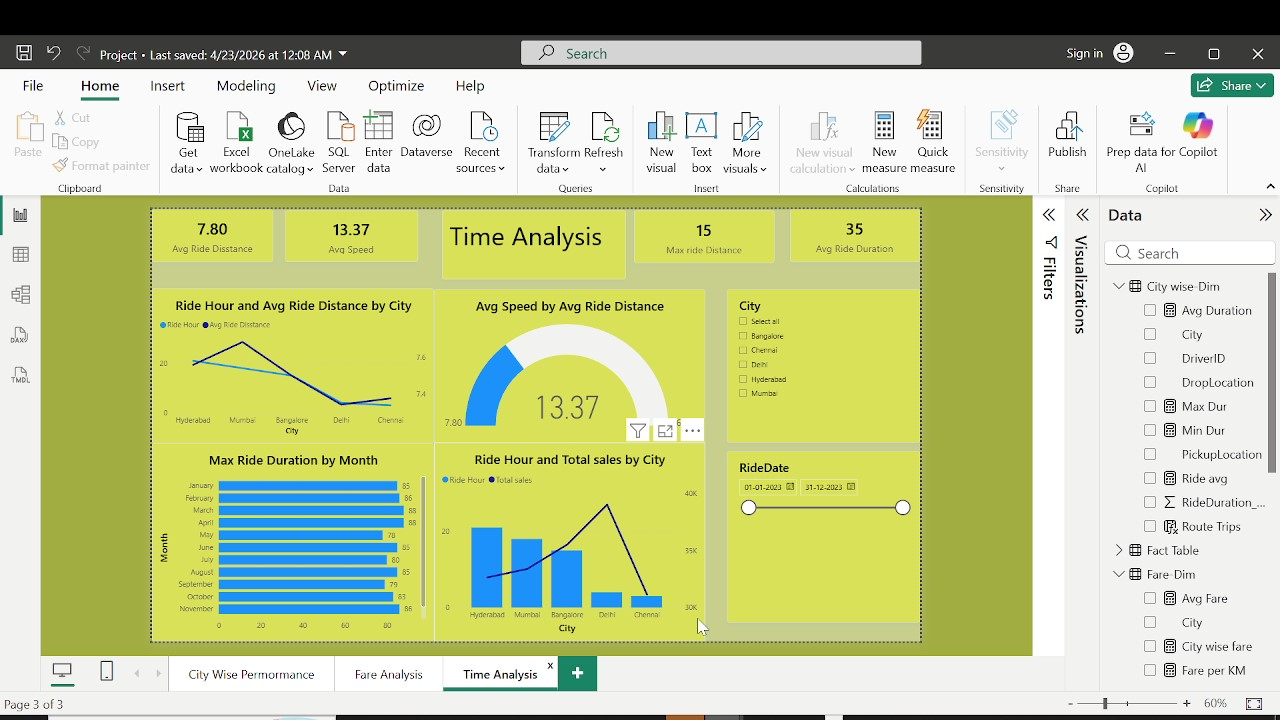

The page's visual inventory and layout, read from the dashboard file:
{"tool":"powerbi","page":{"name":"Time  Analysis","canvas":[1280,720],"ordinal":2},"visuals":[{"type":"card","fields":{"Values":["Time Duration- Dim.Avg Speed"]},"box":[222,2,222,86],"z":1000},{"type":"card","fields":{"Values":["Time Duration- Dim.Avg Ride Disstance"]},"box":[0,0,202,88],"z":2000},{"type":"textbox","box":[483.3,1.7,306.7,115],"z":7000},{"type":"card","fields":{"Values":["Time Duration- Dim.Avg Ride Duration"]},"box":[1064,0,216,88],"z":8000},{"type":"card","fields":{"Values":["Time Duration- Dim.Max ride Distance"]},"box":[804,2,234,88],"z":11001},{"type":"lineChart","title":"Ride Hour and Avg Ride Distance by City","fields":{"Y":["Time Duration- Dim.Ride Hour"],"Category":["Fare-Dim.City"],"Y2":["Time Duration- Dim.Avg Ride Disstance"]},"box":[0,131.7,470,258.3],"z":11002},{"type":"gauge","title":"Avg Speed by Avg Ride Distance","fields":{"Y":["Time Duration- Dim.Avg Speed"],"MinValue":["Time Duration- Dim.Avg Ride Disstance"]},"box":[470,131.7,451.7,256.7],"z":11003},{"type":"barChart","fields":{"Category":["Time Duration- Dim.RideDate.Variation.Date Hierarchy.Month"],"Y":["Time Duration- Dim.Max Ride Duration"]},"box":[0,390,470,330],"z":11004},{"type":"lineStackedColumnComboChart","fields":{"Category":["Fare-Dim.City"],"Y":["Time Duration- Dim.Ride Hour"],"Y2":["Fare-Dim.Total sales"]},"box":[470,388.3,451.7,331.7],"z":11005},{"type":"slicer","fields":{"Values":["City wise-Dim.City"]},"box":[958.3,133.3,321.7,255],"z":11006},{"type":"slicer","fields":{"Values":["Time Duration- Dim.RideDate"]},"box":[958.3,403.3,321.7,285],"z":11007}]}

Visuals, with their boxes on the page's 1280x720 design canvas (x1, y1, x2, y2). These are canvas units, not pixel positions in the 1280x720 screenshot, which may show the page scaled, cropped or inside an application window:
card - Time Duration- Dim.Avg Speed: l=222, t=2, r=444, b=88
card - Time Duration- Dim.Avg Ride Disstance: l=0, t=0, r=202, b=88
textbox: l=483, t=2, r=790, b=117
card - Time Duration- Dim.Avg Ride Duration: l=1064, t=0, r=1280, b=88
card - Time Duration- Dim.Max ride Distance: l=804, t=2, r=1038, b=90
"Ride Hour and Avg Ride Distance by City" lineChart: l=0, t=132, r=470, b=390
"Avg Speed by Avg Ride Distance" gauge: l=470, t=132, r=922, b=388
barChart - Time Duration- Dim.RideDate.Variation.Date Hierarchy.Month x Time Duration- Dim.Max Ride Duration: l=0, t=390, r=470, b=720
lineStackedColumnComboChart - Fare-Dim.City x Time Duration- Dim.Ride Hour: l=470, t=388, r=922, b=720
slicer - City wise-Dim.City: l=958, t=133, r=1280, b=388
slicer - Time Duration- Dim.RideDate: l=958, t=403, r=1280, b=688
